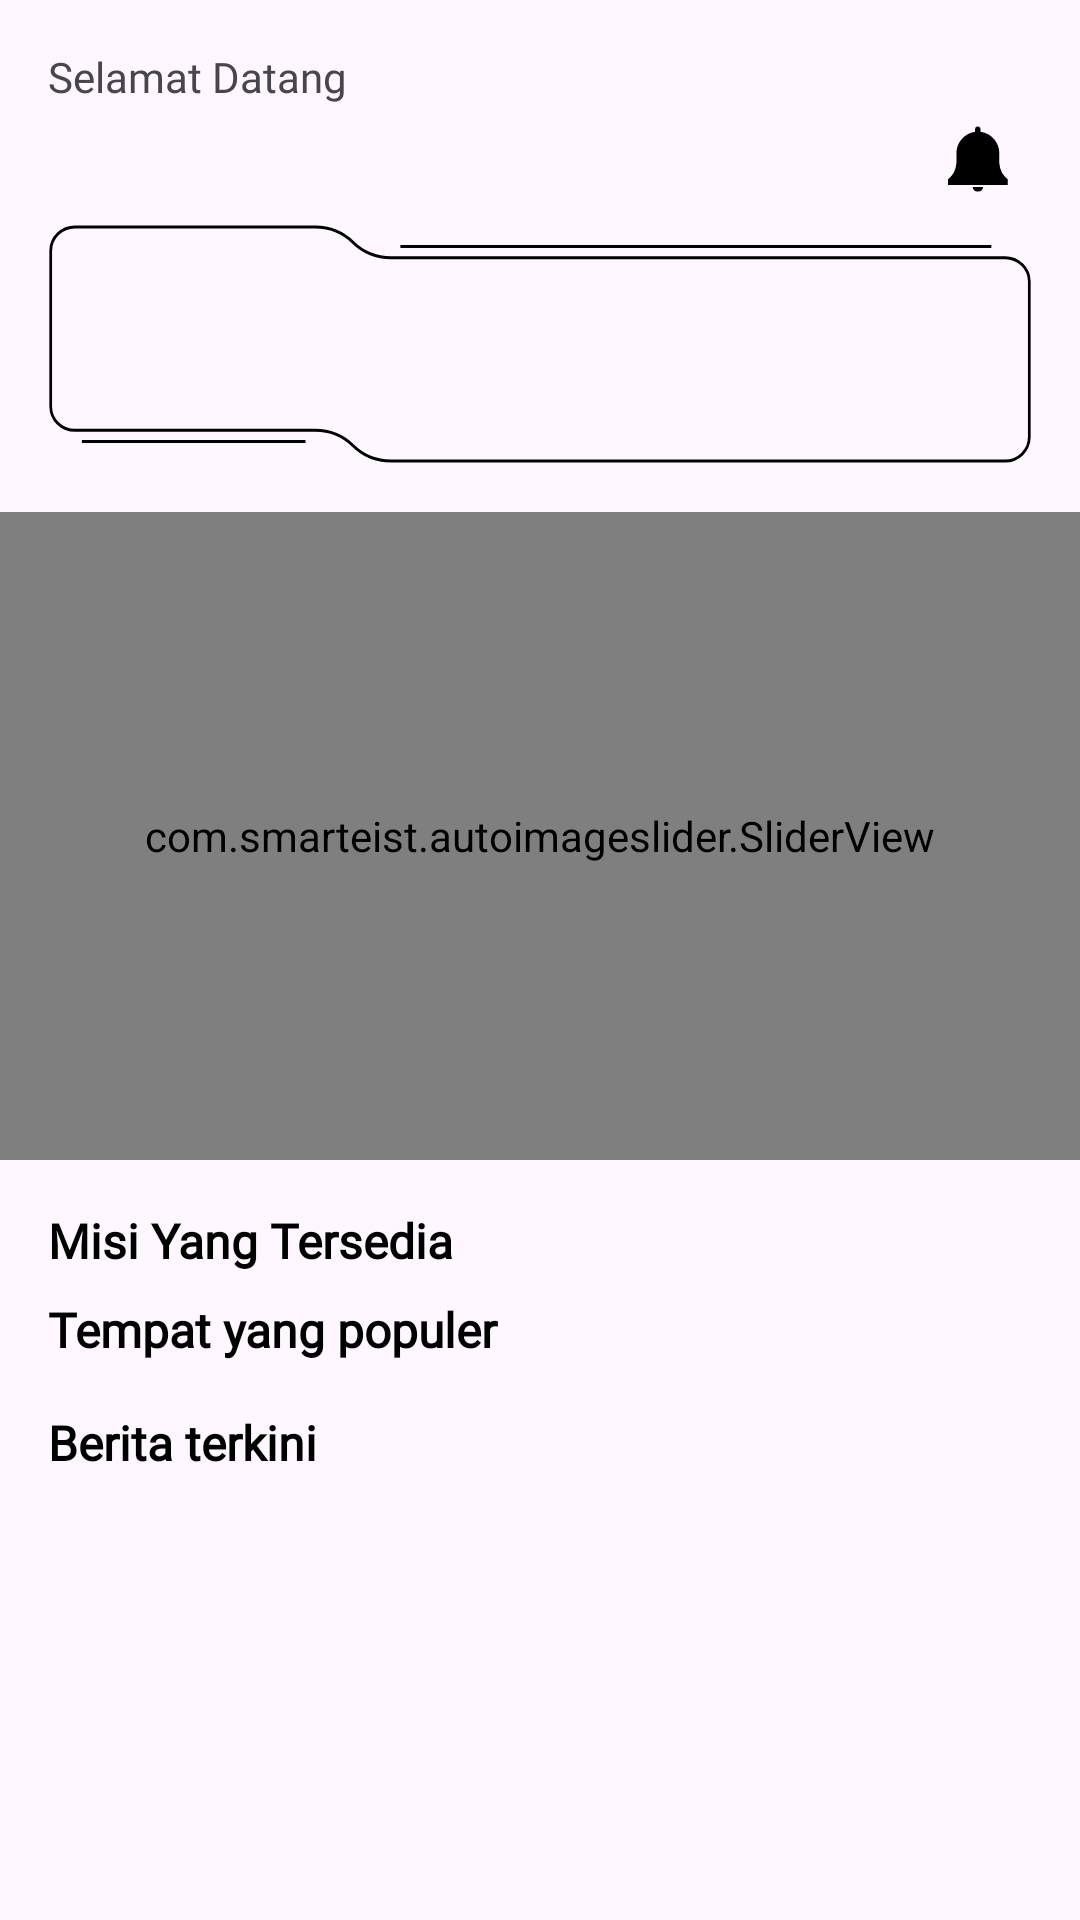

Icons on this 1080×1920 Android screen, each with the point to tap as point (x, y):
notification: point (978, 159)
